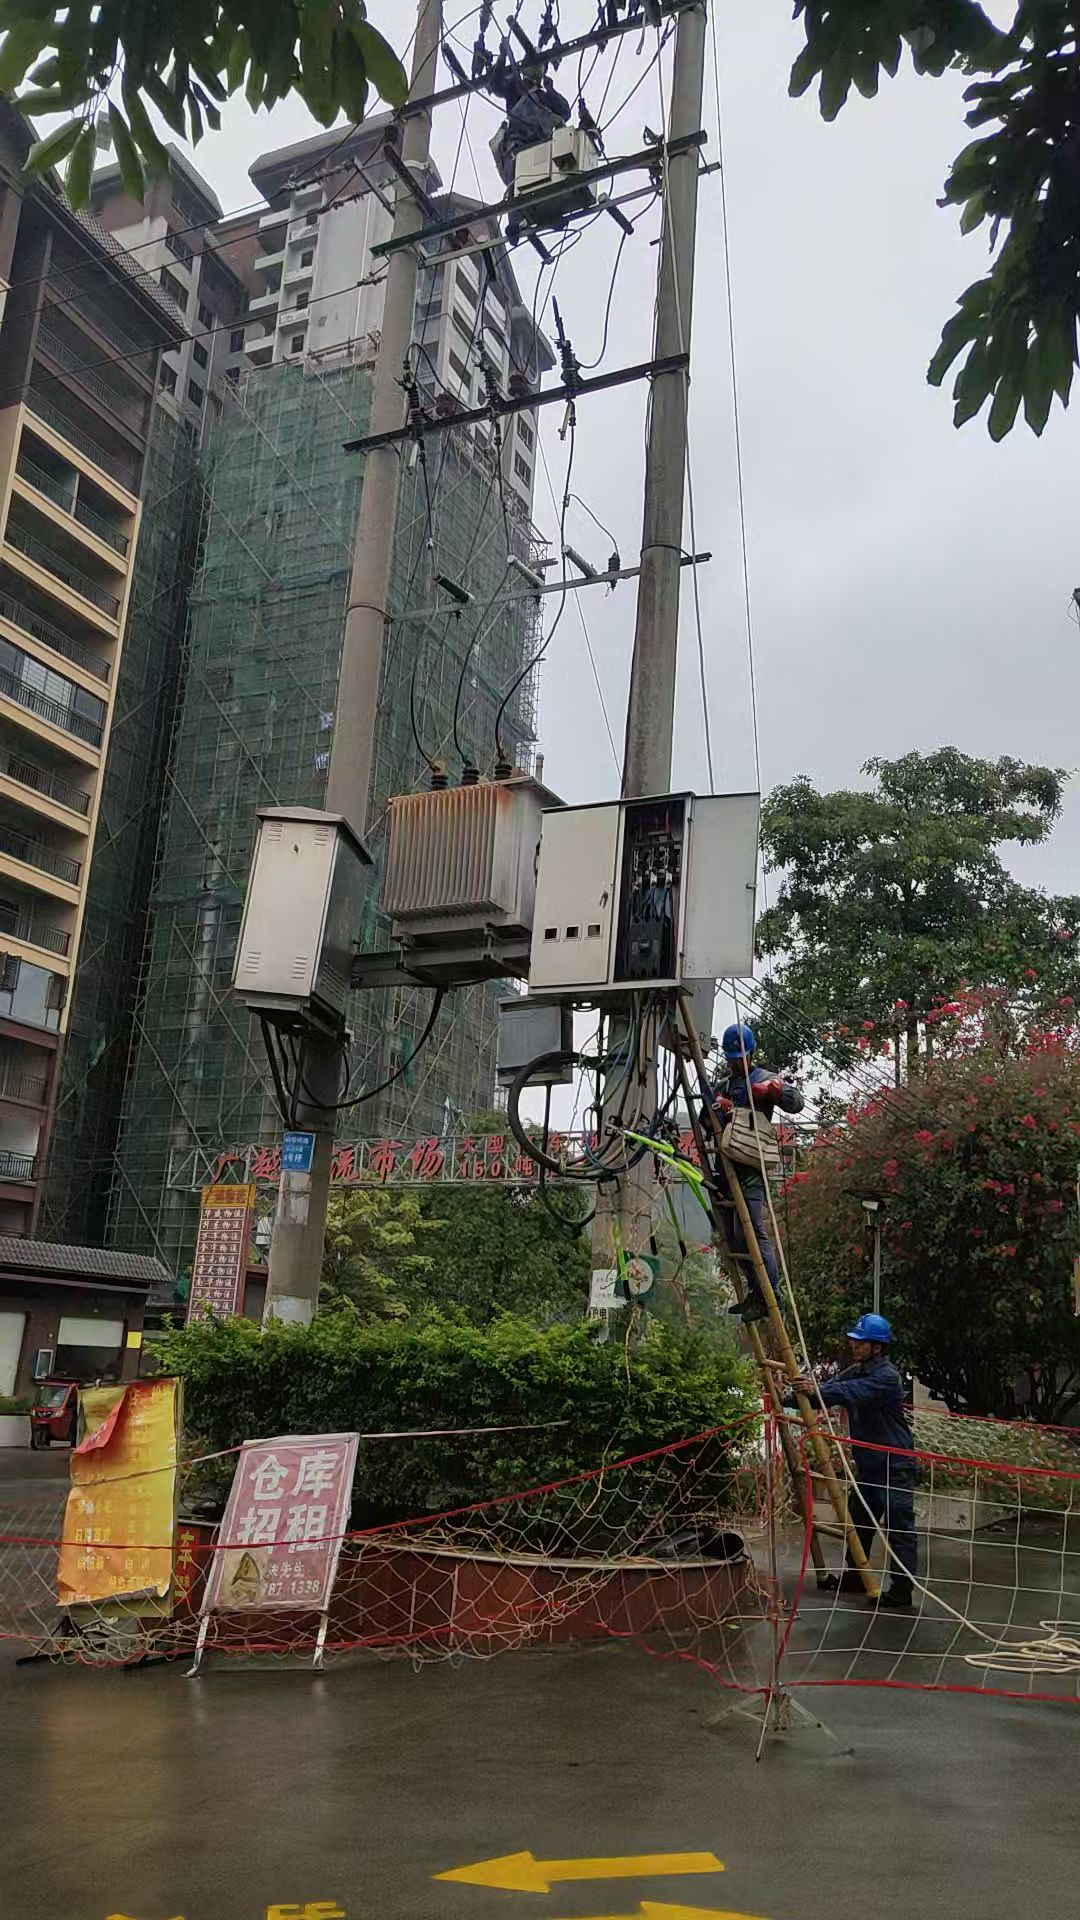downsuit: (716, 1182, 778, 1292), (849, 1479, 917, 1573)
halt: (721, 1022, 759, 1071), (849, 1314, 893, 1354)
hand: (791, 1372, 814, 1394)
inear: (868, 1340, 884, 1360)
longglove: (751, 1075, 781, 1098), (709, 1089, 733, 1114)
person: (807, 1310, 929, 1590), (698, 1016, 807, 1322)
support: (763, 1312, 919, 1617)
upsuit: (825, 1363, 910, 1474), (698, 1064, 805, 1136)
worksign: (614, 1249, 661, 1307)
